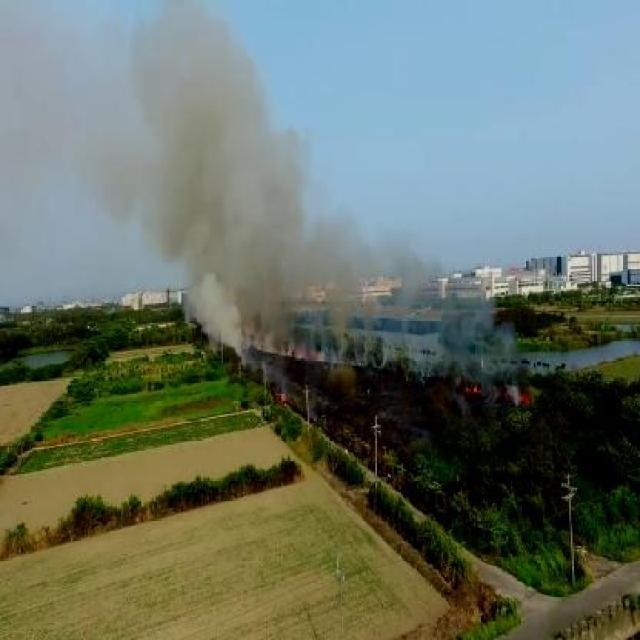Fire: (512, 382, 534, 406), (466, 381, 486, 397)
Smoke: (0, 0, 516, 358)
